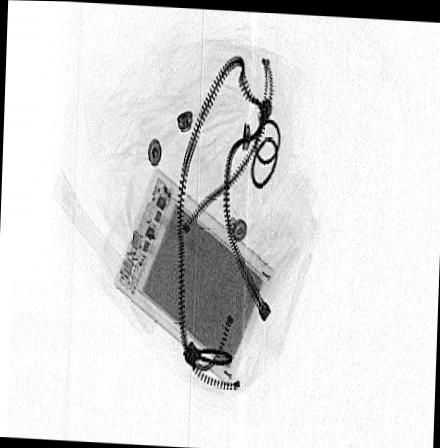Powerbank: (112, 162, 276, 386)
